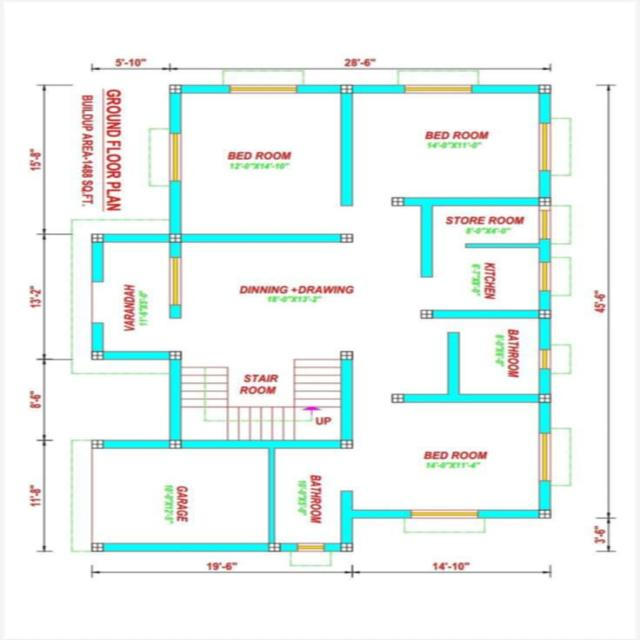column: (82, 432, 115, 454), (532, 388, 562, 408), (334, 434, 363, 454), (532, 503, 558, 524), (384, 387, 411, 407), (532, 81, 559, 100), (534, 193, 560, 212), (161, 435, 188, 453), (333, 538, 361, 555), (86, 346, 112, 364), (84, 538, 110, 556), (334, 348, 362, 364), (260, 538, 286, 555), (336, 230, 360, 248), (164, 346, 187, 364), (163, 229, 187, 246), (164, 81, 188, 97), (336, 82, 360, 98), (533, 306, 553, 325), (388, 194, 410, 211), (85, 231, 108, 247), (414, 307, 437, 322)
